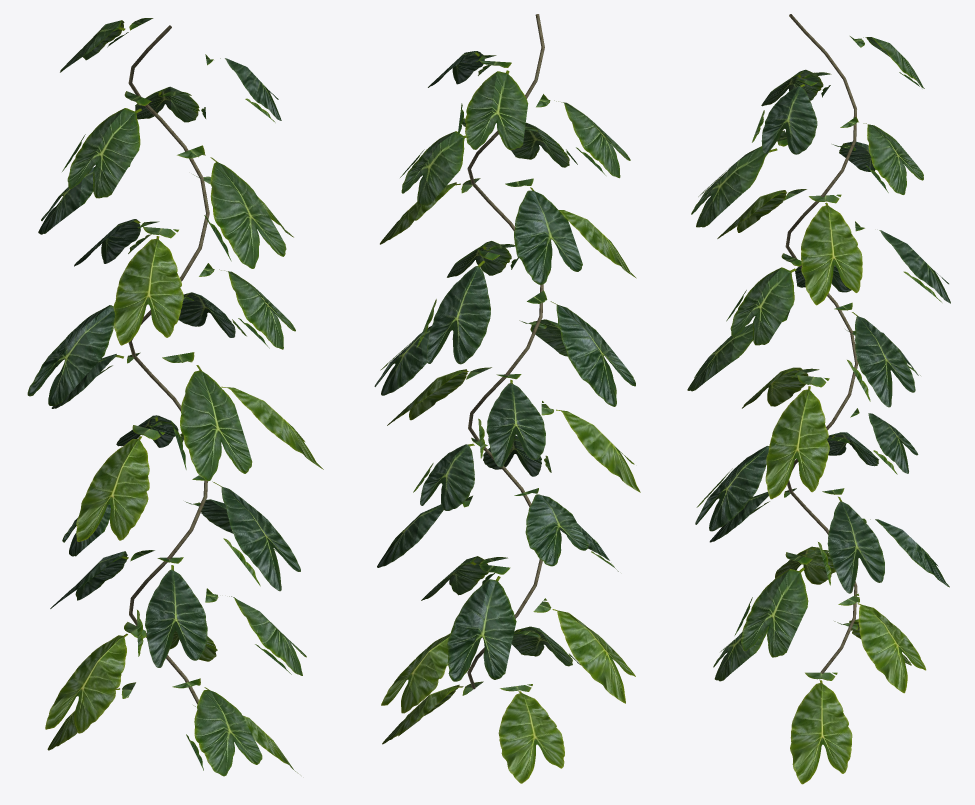
File: climber_02.glb
The picture shows the model from 3 angles, left to right: view 1: azimuth 30°, elevation 25°; view 2: azimuth 150°, elevation 25°; view 3: azimuth 270°, elevation 25°; orthographic projection. The views are drawn at different scales.
Visible parts, largest first — view 1: climber_02; view 2: climber_02; view 3: climber_02.
Part boxes in pixels (x1,y1,x2,y2): climber_02: (27,18,323,776); climber_02: (374,14,640,783); climber_02: (687,14,950,784).
Bounding box in the file's own units: 2.06 × 5.61 × 2.01.
Materials: 2 (2 with a texture image).
